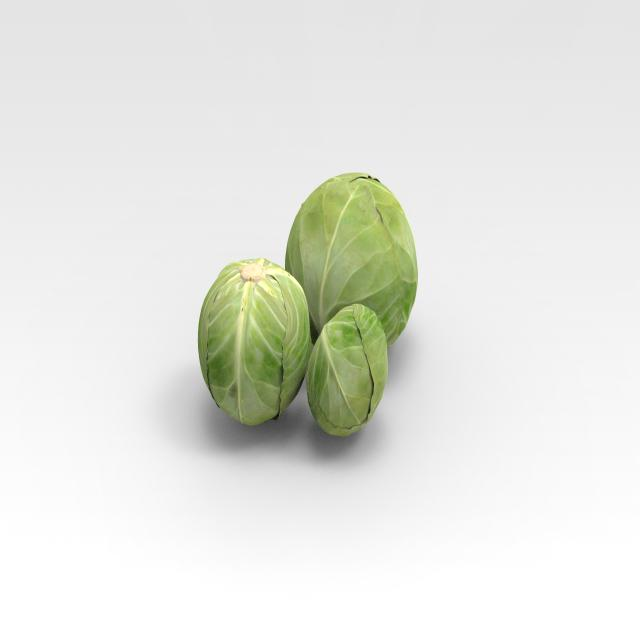cabbage: (280, 169, 420, 364), (196, 249, 309, 432), (305, 300, 390, 442)
